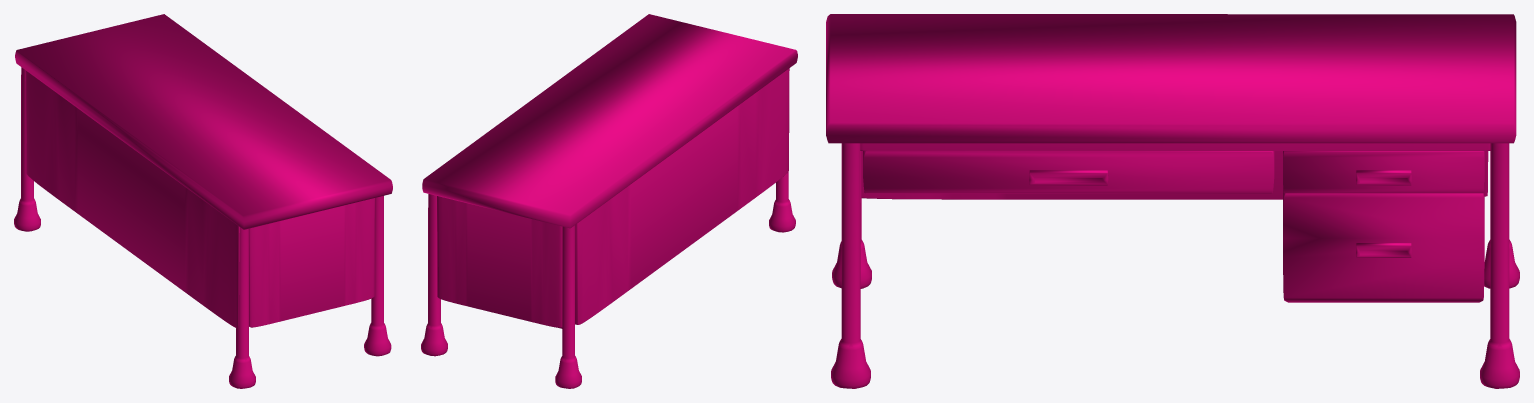
Rendered from Desk.fbx.
3 renders of one model, left to right at view 1: azimuth 30°, elevation 25°; view 2: azimuth 150°, elevation 25°; view 3: azimuth 270°, elevation 25°, orthographic. The views are drawn at different scales.
Parts seen in each view (by area): view 1: Cube.003; view 2: Cube.003; view 3: Cube.003.
Part boxes in pixels (x1,y1,x2,y2): Cube.003: (14,14,392,388); Cube.003: (421,14,797,388); Cube.003: (826,14,1519,388).
Size of the model in its own units: 219 by 231 by 552.
